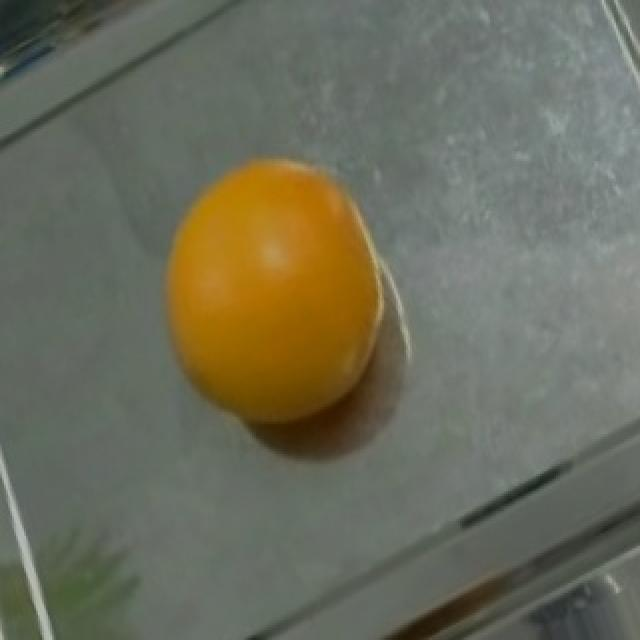Fruit: (148, 134, 408, 456)
